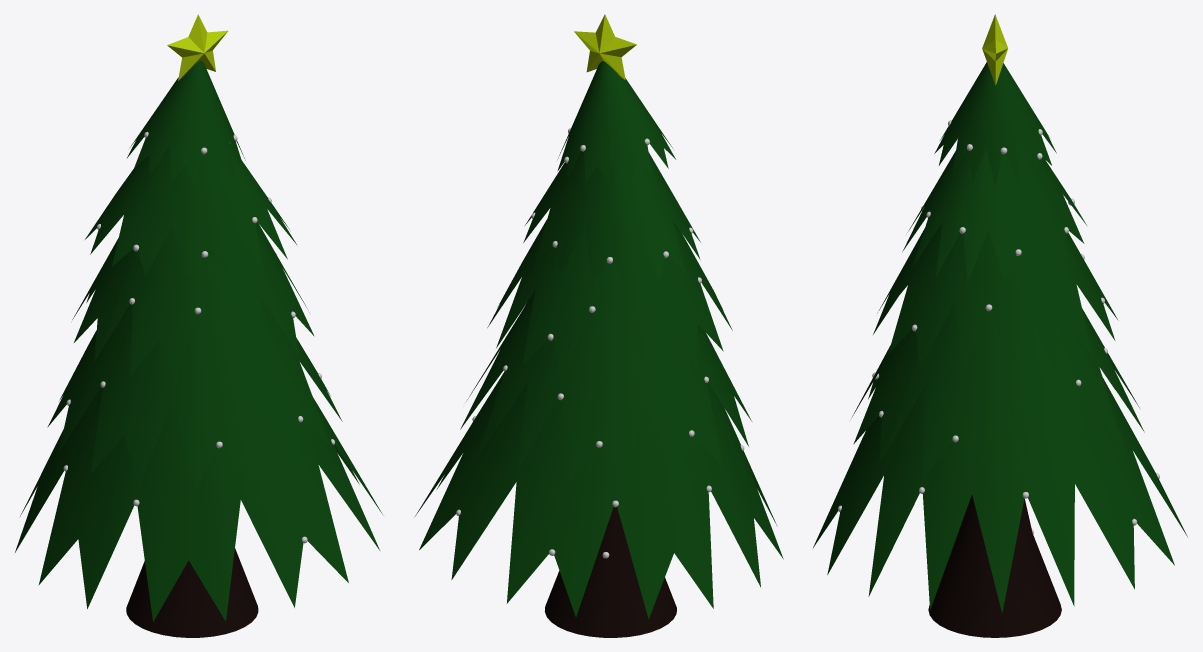
The model's file is xmas_tree.obj.
3 renders of one model, left to right at view 1: azimuth 30°, elevation 25°; view 2: azimuth 150°, elevation 25°; view 3: azimuth 270°, elevation 25°, orthographic.
Parts seen in each view (by area): view 1: Cylinder.001, Circle, Cylinder.006; view 2: Cylinder.001, Circle, Cylinder.006; view 3: Cylinder.001, Circle, Cylinder.006.
Part boxes in pixels (x1=…): Cylinder.001: x1=15, y1=60, x2=383, y2=637; Circle: x1=167, y1=14, x2=227, y2=80; Cylinder.006: x1=63, y1=132, x2=335, y2=543; Cylinder.001: x1=415, y1=61, x2=783, y2=637; Circle: x1=574, y1=14, x2=636, y2=80; Cylinder.006: x1=456, y1=128, x2=744, y2=558; Cylinder.001: x1=813, y1=62, x2=1187, y2=637; Circle: x1=982, y1=14, x2=1007, y2=85; Cylinder.006: x1=838, y1=120, x2=1159, y2=533.
Bounding box in the file's own units: 5.64 × 9.89 × 5.64.
